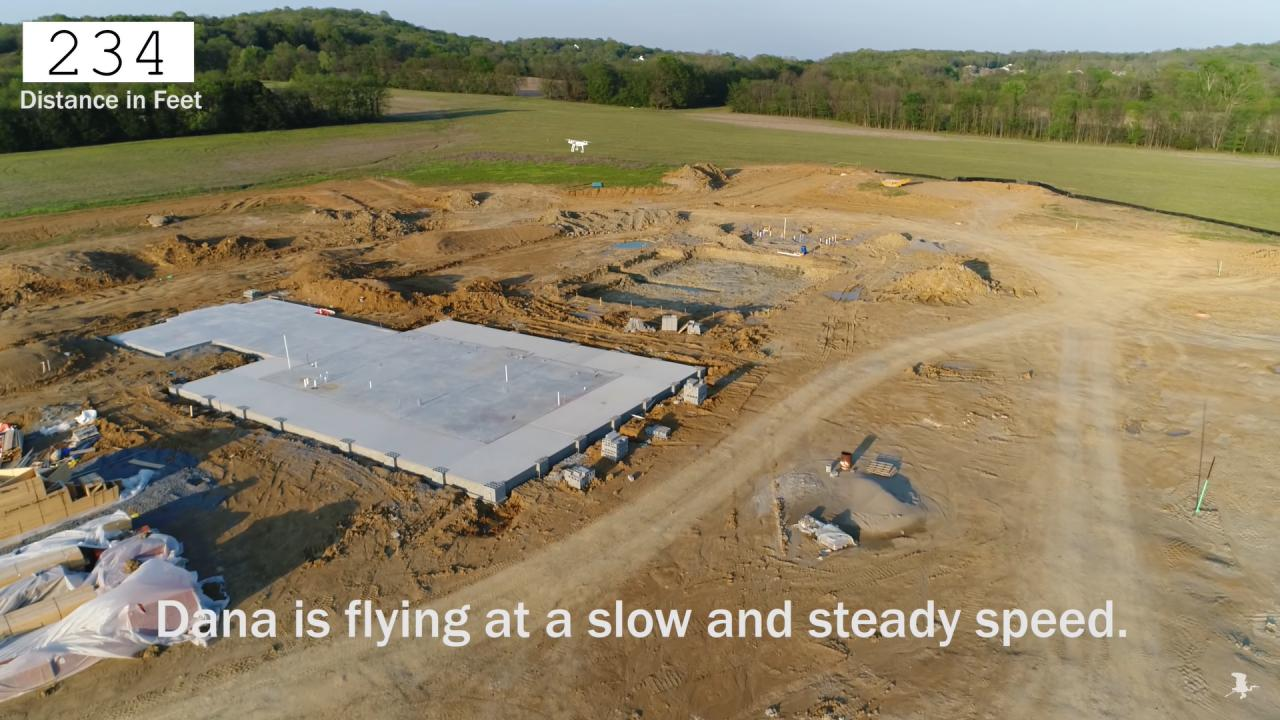Drone: (559, 127, 602, 164)
